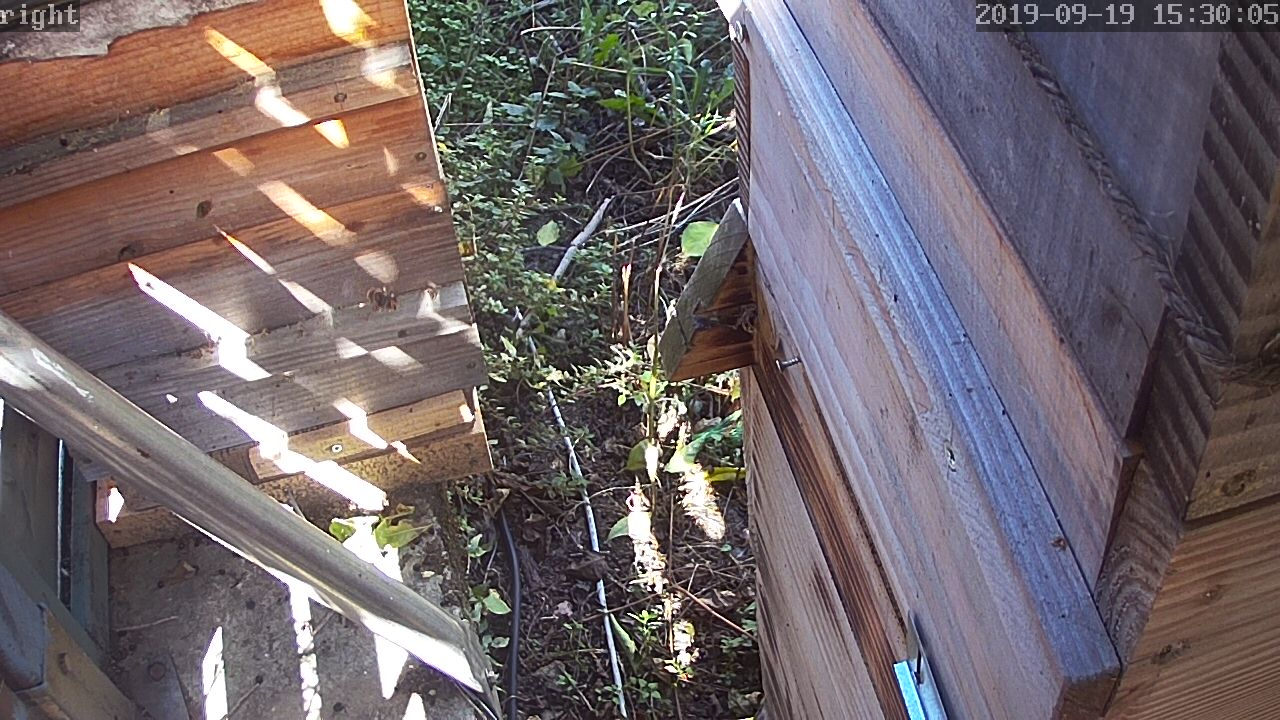hornet: (57, 1, 1249, 720)
